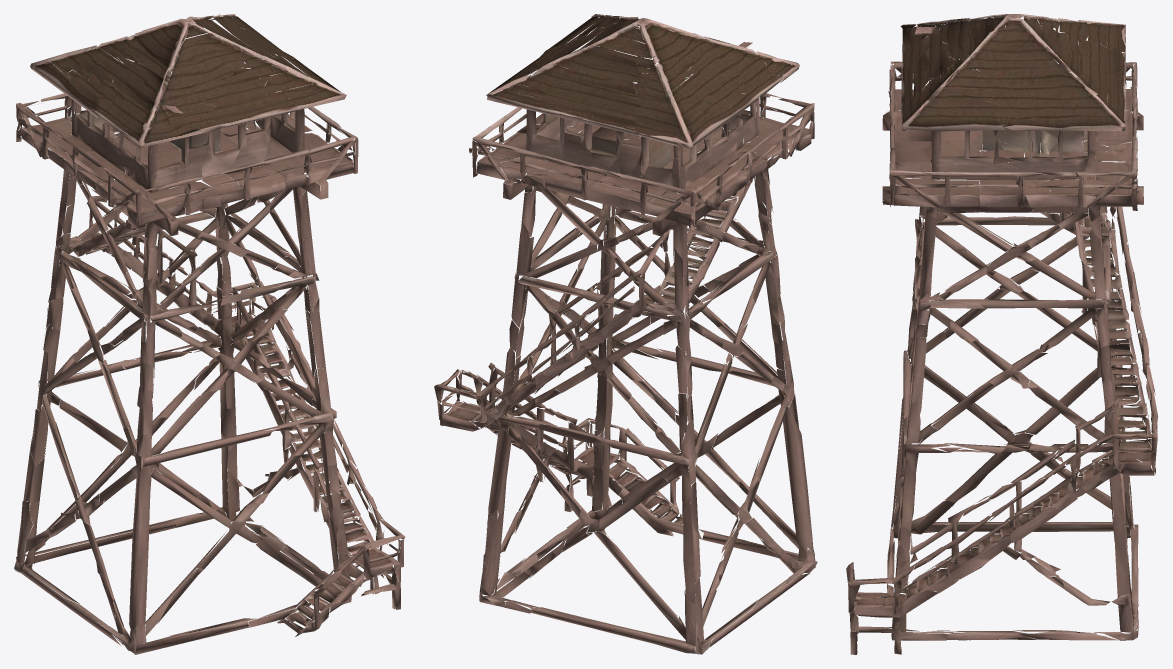
The model's file is torre_vigia.glb.
3 renders of one model, left to right at view 1: azimuth 30°, elevation 25°; view 2: azimuth 150°, elevation 25°; view 3: azimuth 270°, elevation 25°, orthographic.
Visible parts, largest first — view 1: tripo_node_3cc12d61-57d2-405b-9924-14d7cda30c6c; view 2: tripo_node_3cc12d61-57d2-405b-9924-14d7cda30c6c; view 3: tripo_node_3cc12d61-57d2-405b-9924-14d7cda30c6c.
Boxes of the visible parts, box(x1,y1,x2,y2) form: tripo_node_3cc12d61-57d2-405b-9924-14d7cda30c6c: box(14, 14, 405, 654); tripo_node_3cc12d61-57d2-405b-9924-14d7cda30c6c: box(434, 14, 817, 654); tripo_node_3cc12d61-57d2-405b-9924-14d7cda30c6c: box(846, 14, 1158, 654).
Bounding box in the file's own units: 0.4736 × 1 × 0.4909.
1 material, 1 textured.
